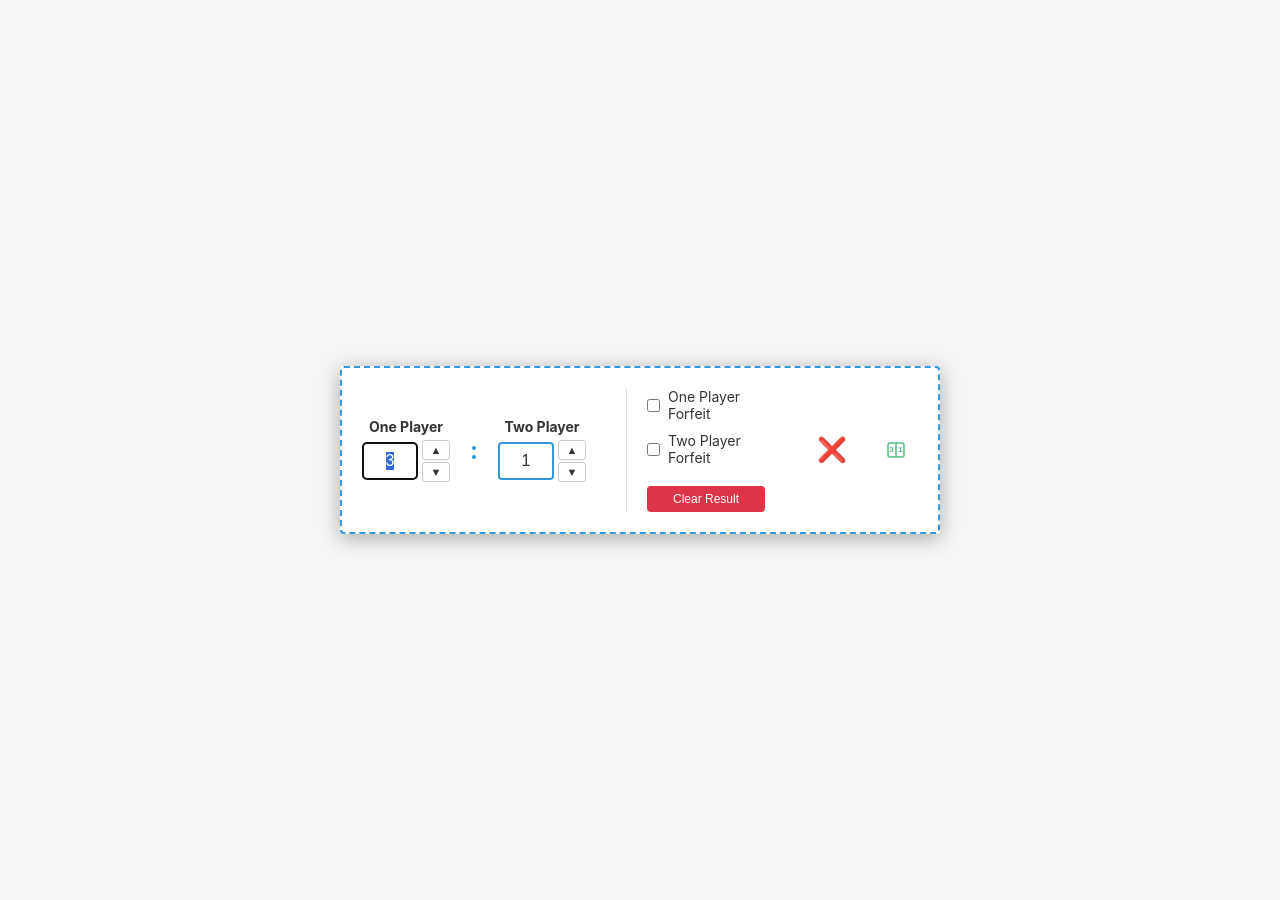
MatchEntryPopup modification confirmations › can show rating-impact wording for playoff and swiss callers
Press 1 in the field named "Player 1 score", box x1=362 y1=442 x2=418 y2=480
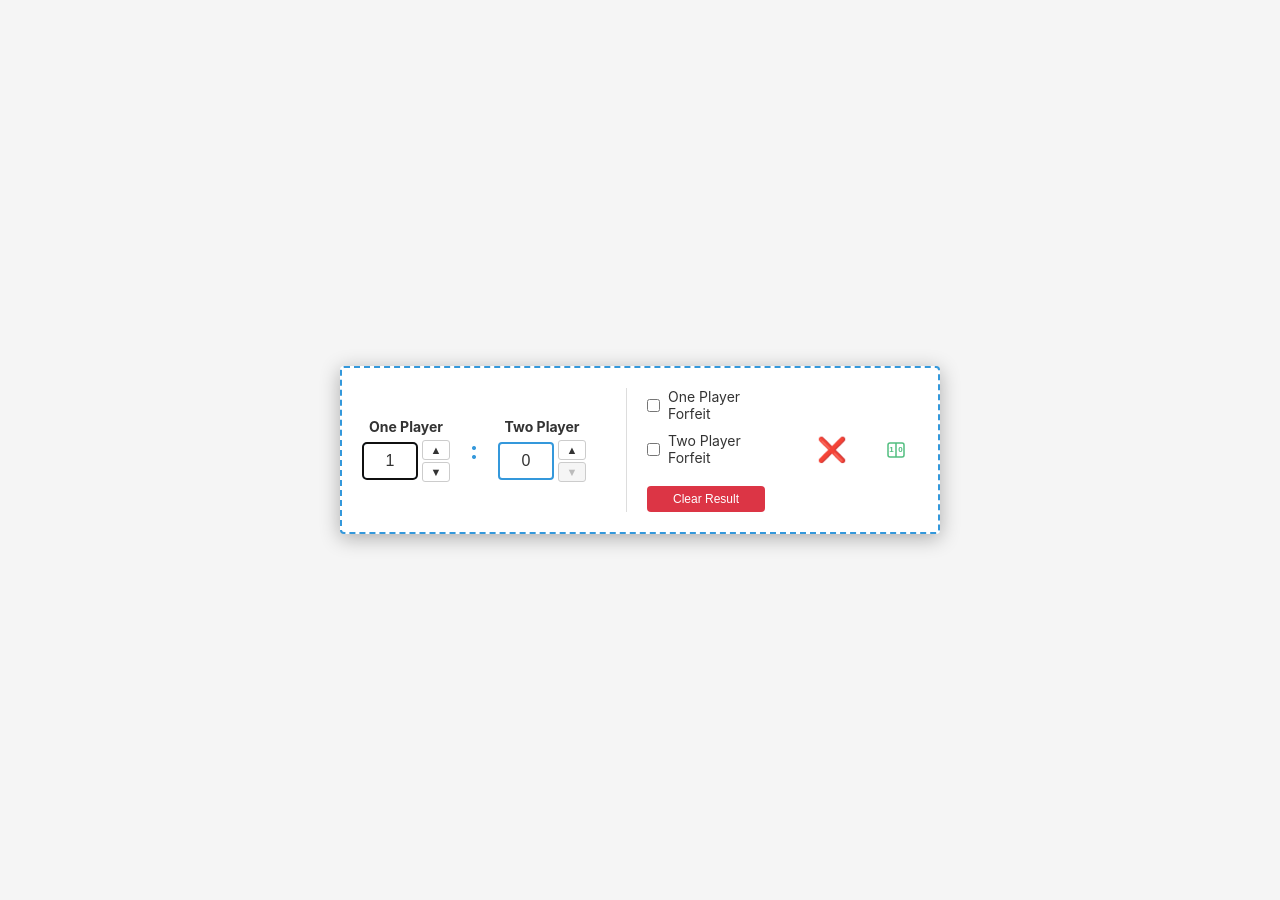
Press 3 in the field named "Player 2 score", box x1=498 y1=442 x2=554 y2=480
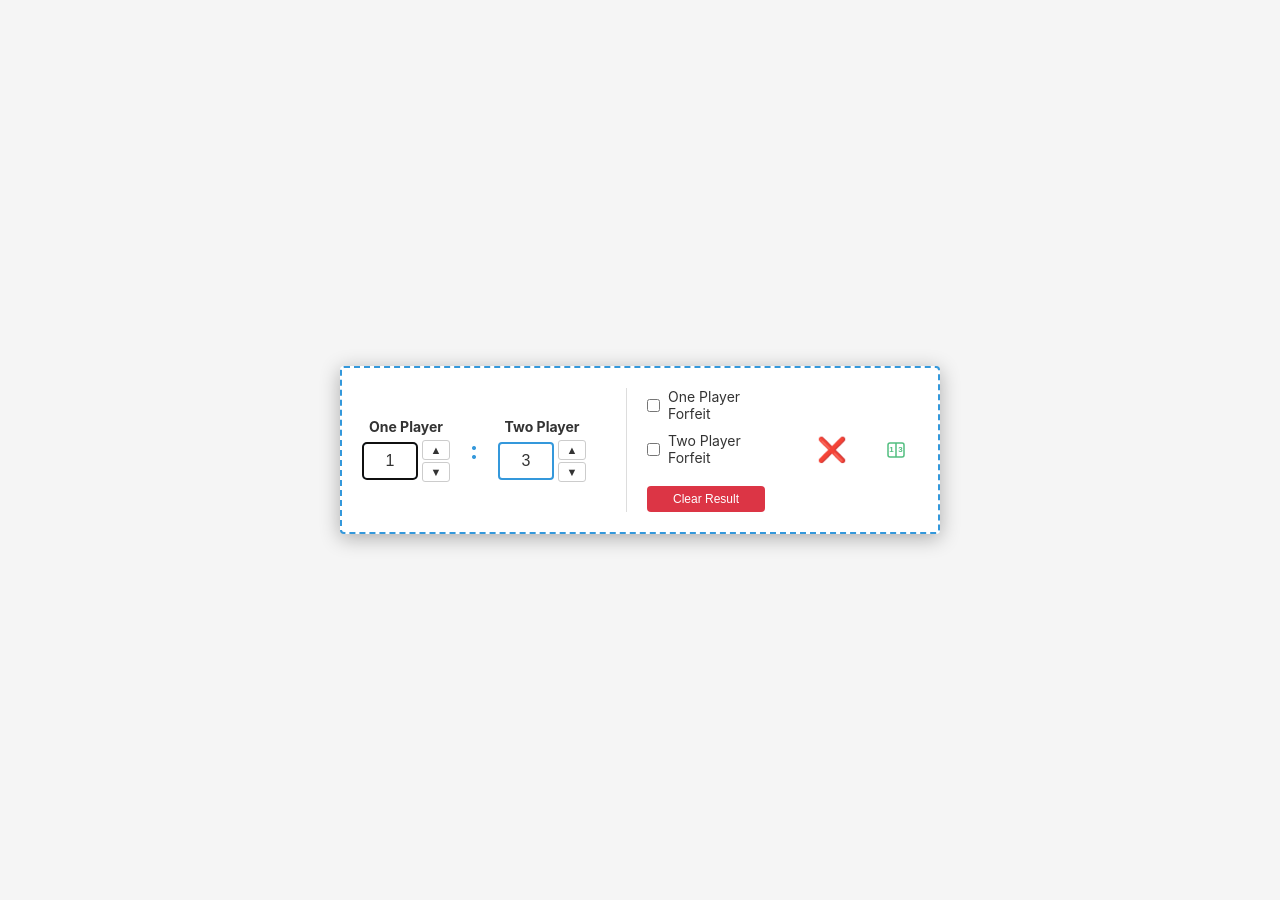
Click the button titled "Save Changes" at (896,450), box x1=874 y1=432 x2=918 y2=468
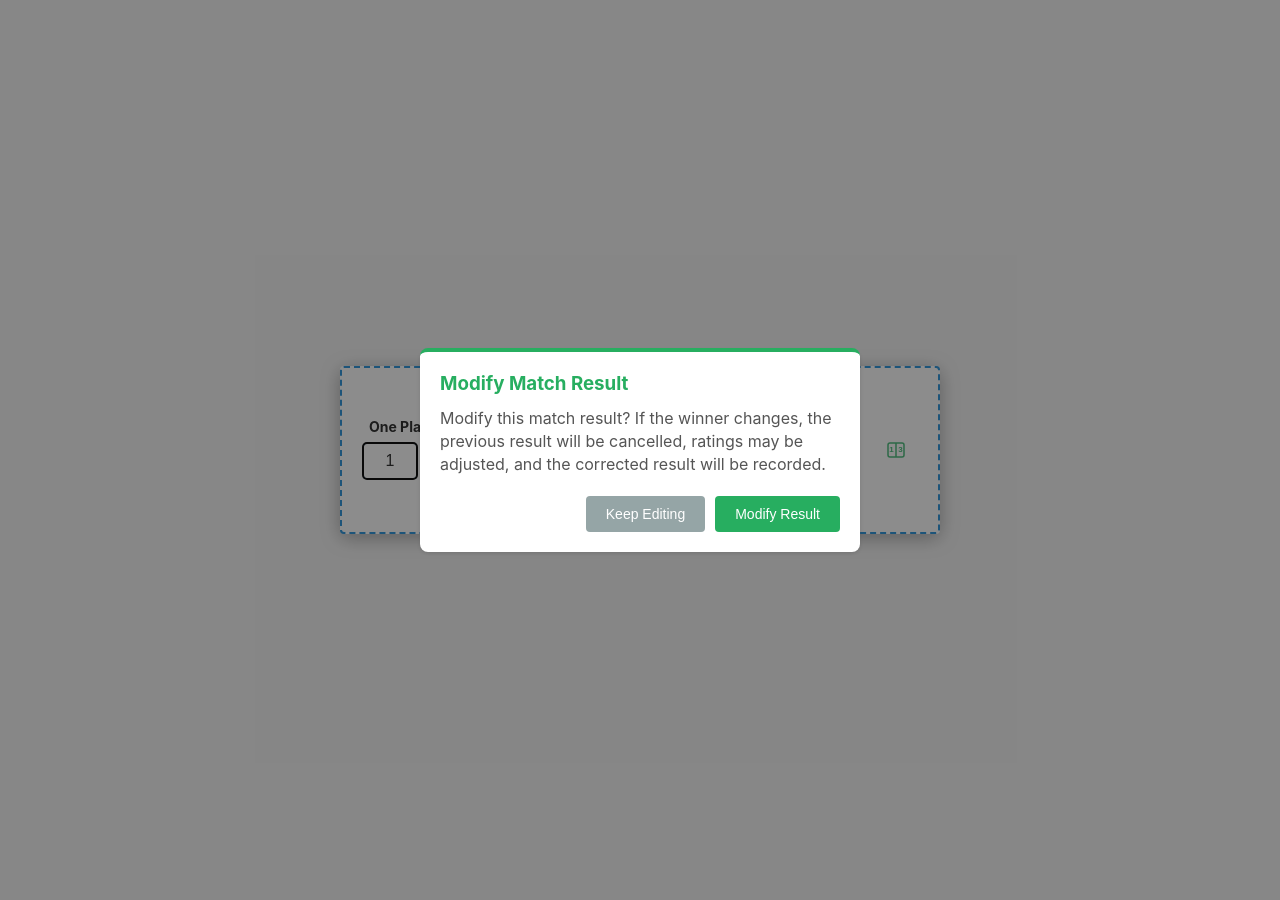
Result: the text "Modify this match result? If the winner changes, the previous result will be cancelled, ratings may be adjusted, and the" is shown at x1=440 y1=408 x2=832 y2=474
